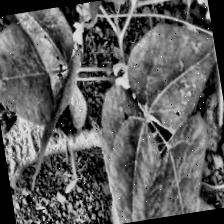ALS: (120, 17, 224, 135), (93, 77, 174, 224), (3, 5, 80, 87)
